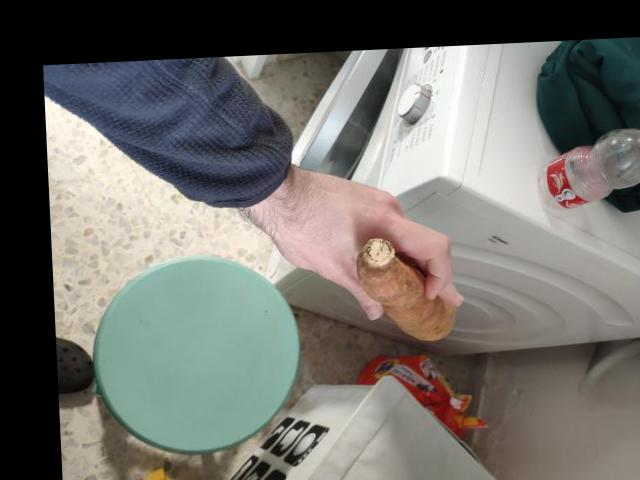sweet_potato: (342, 223, 467, 341)
